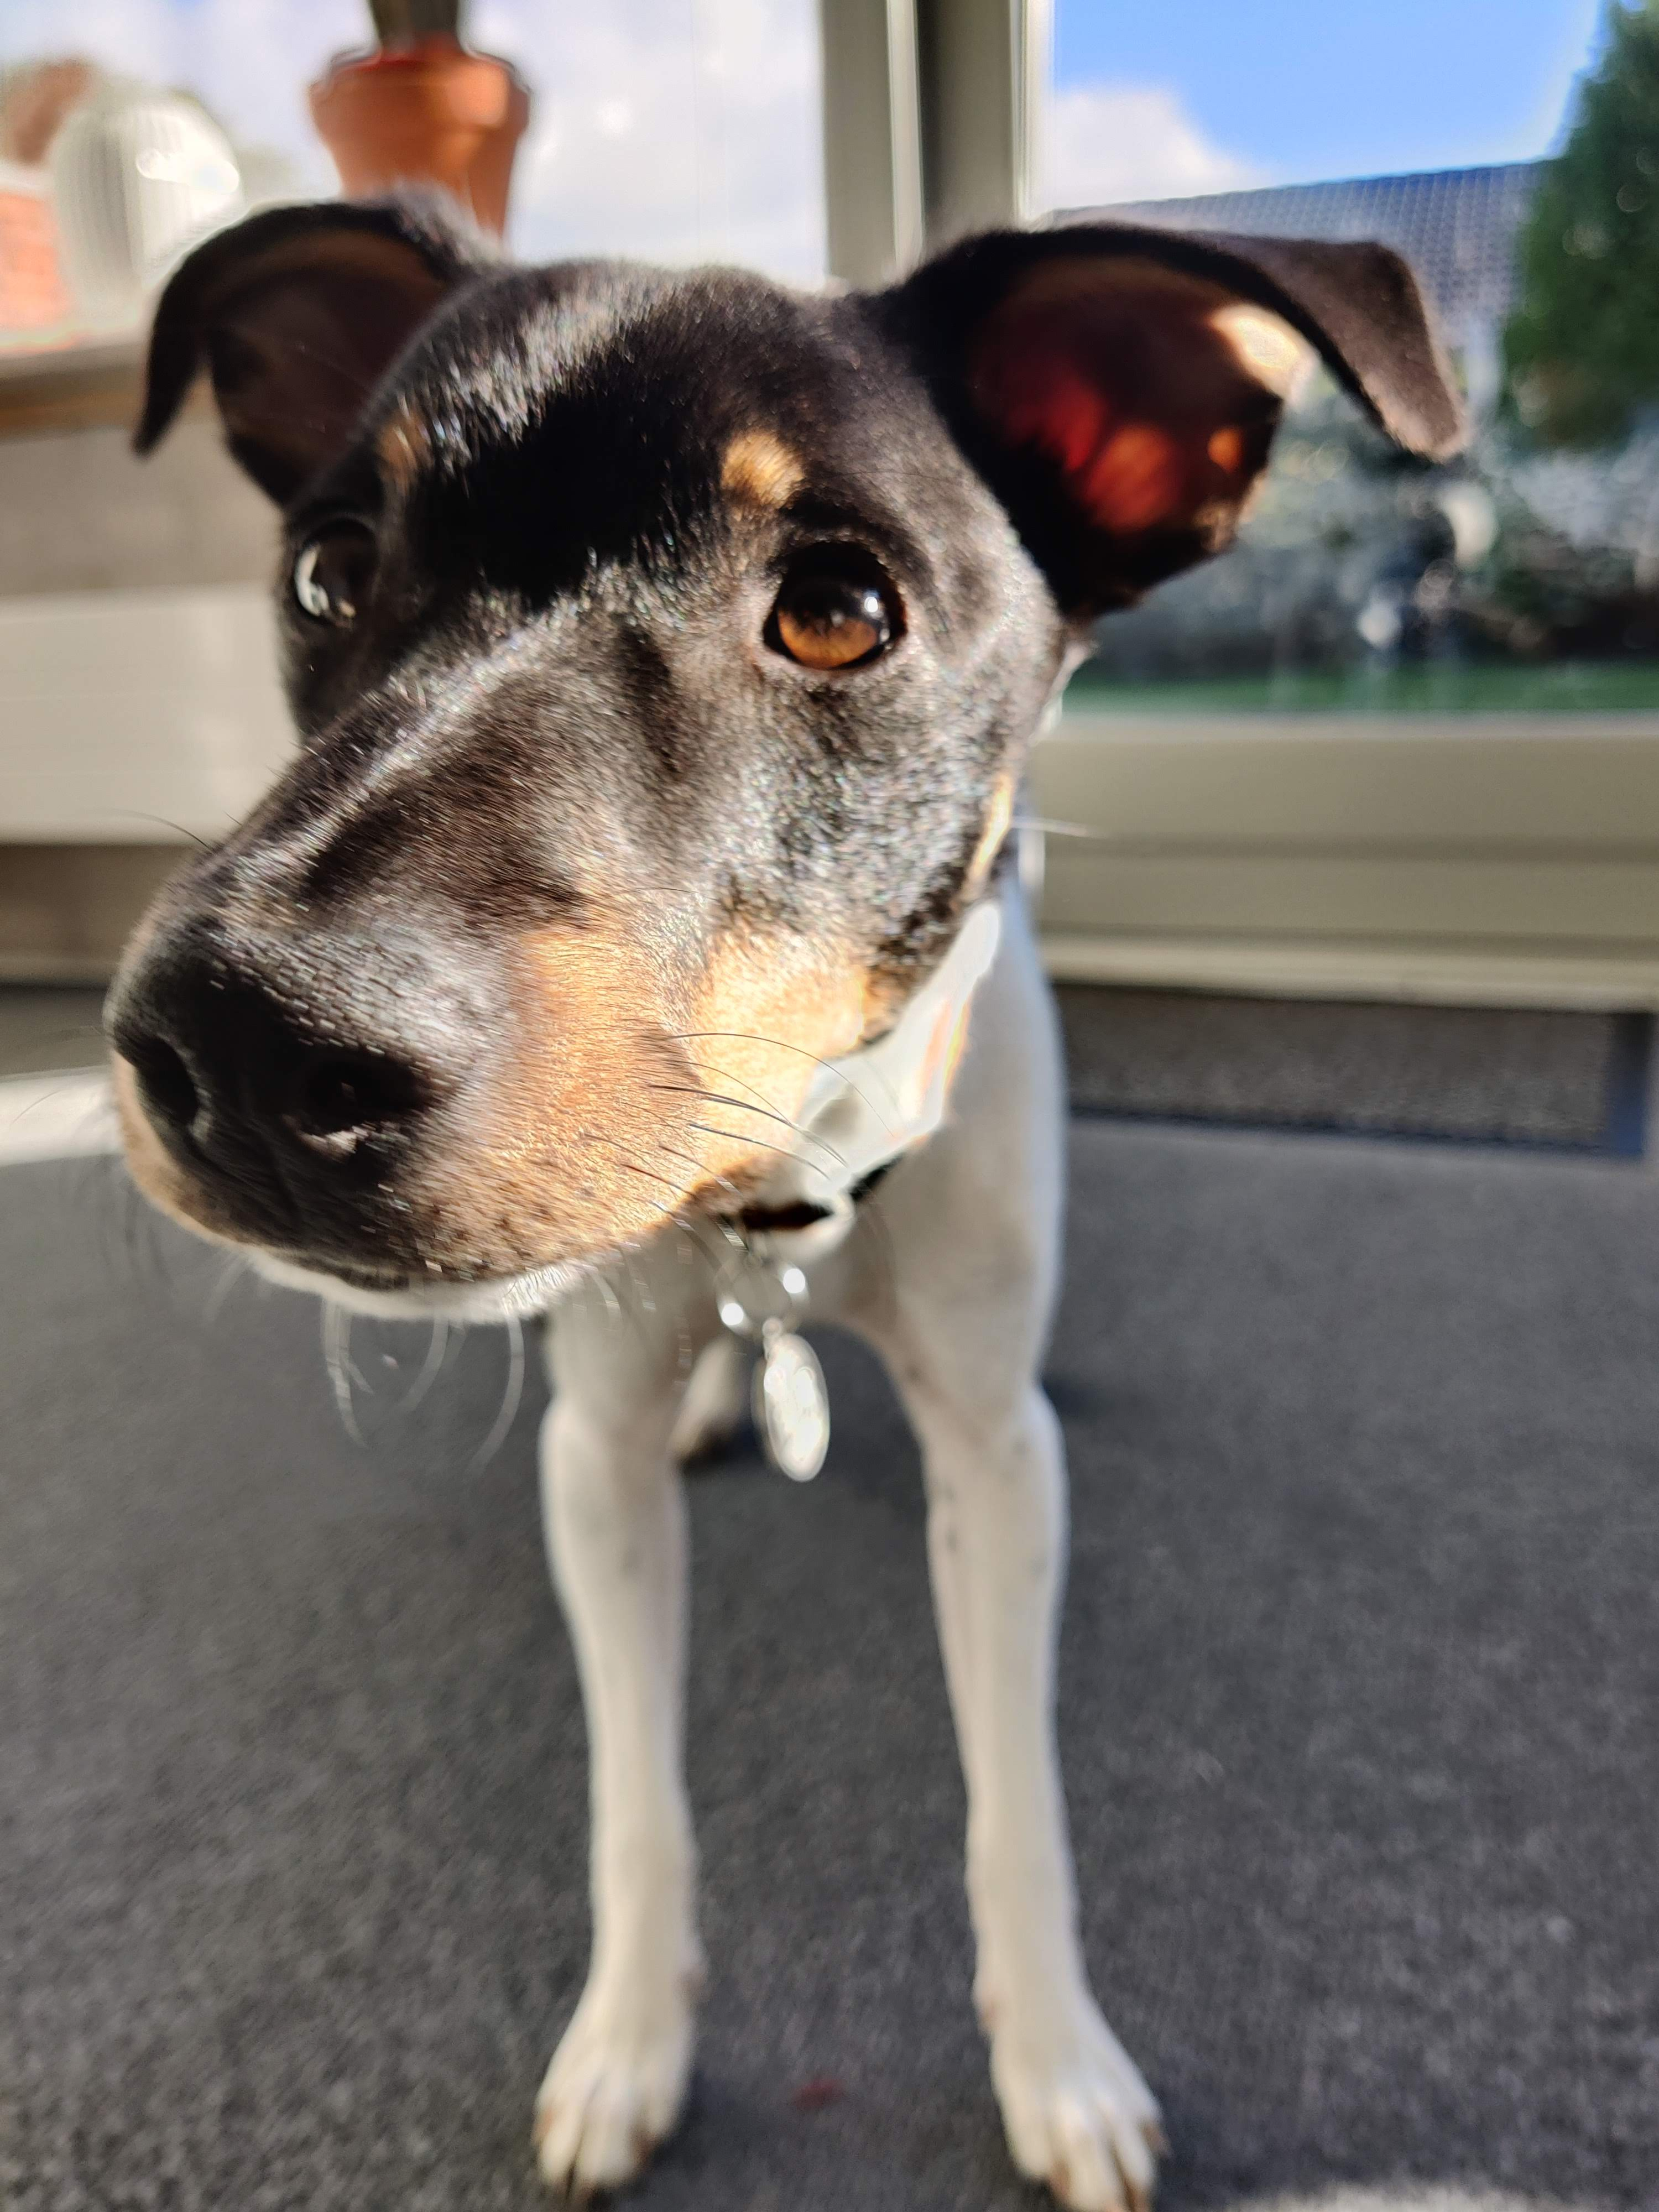Dog: (105, 188, 1471, 2212)
